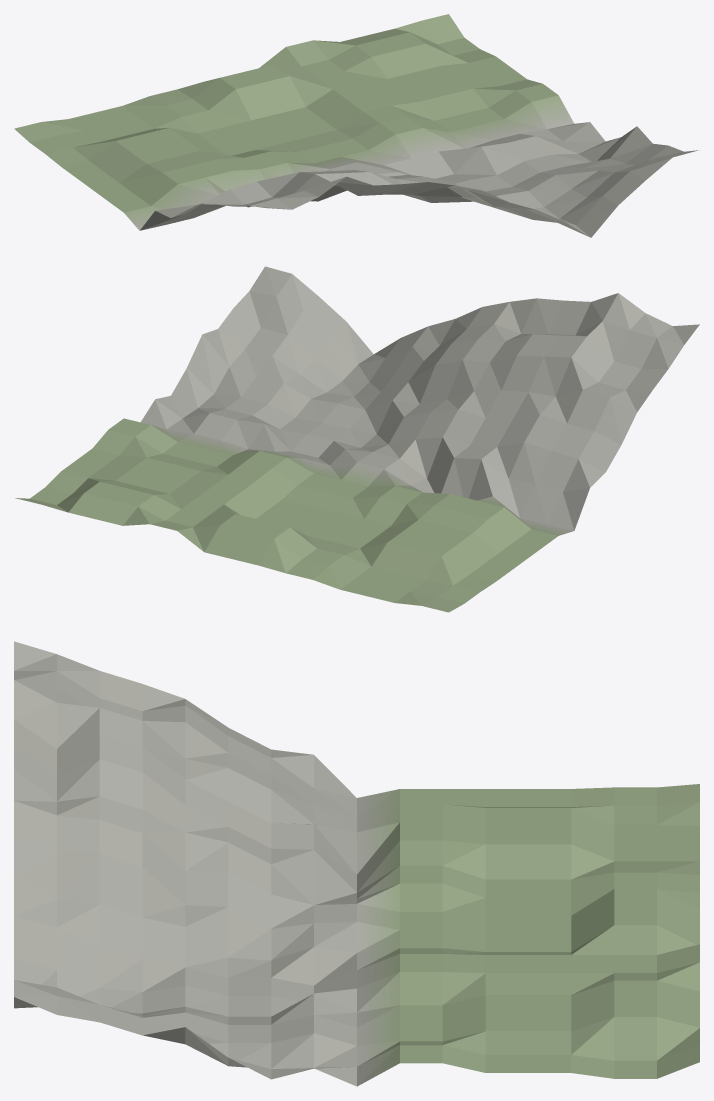
3 views of the same model, one above another, from view 1: azimuth 30°, elevation 25°; view 2: azimuth 150°, elevation 25°; view 3: azimuth 270°, elevation 25° (orthographic). The views are drawn at different scales.
Bounding box in the file's own units: 32 × 9.21 × 32.
